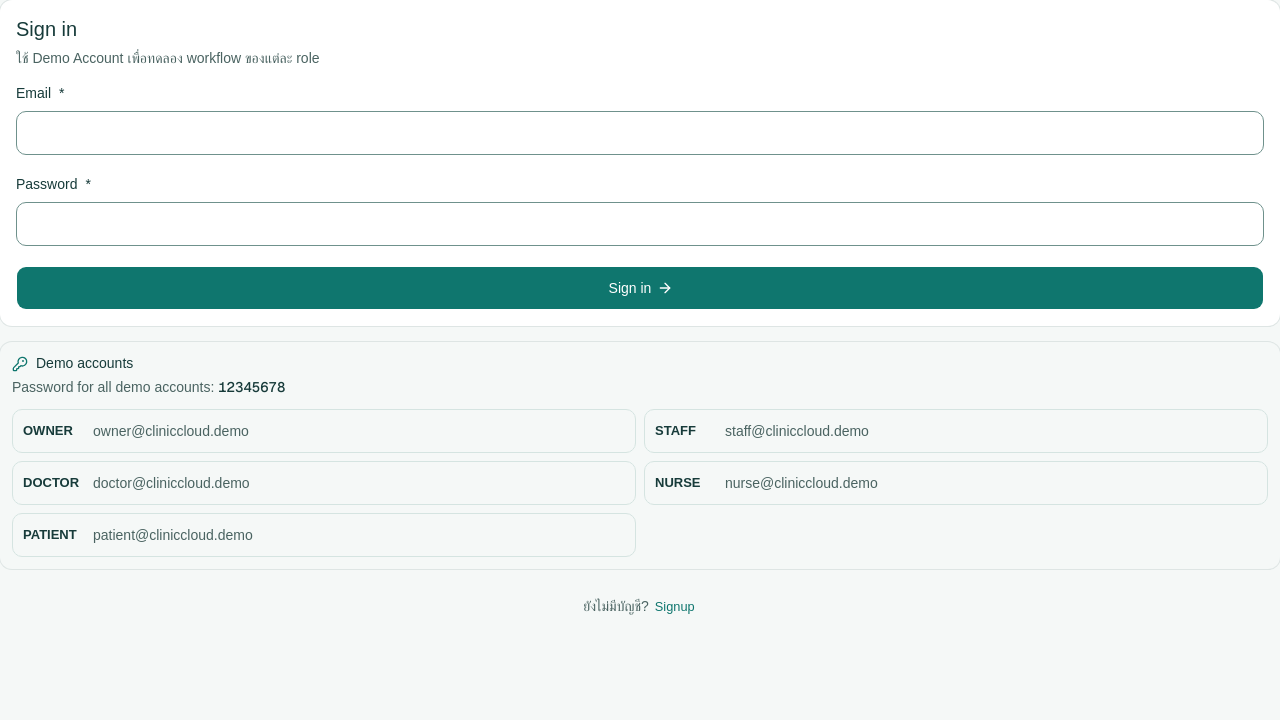
Scenario: public auth screens › prefills a selected demo account and the shared demo password
The image size is (1280, 720).
Click the button "OWNER owner@cliniccloud.demo".
click(48, 430)  # box [12,409,636,453]
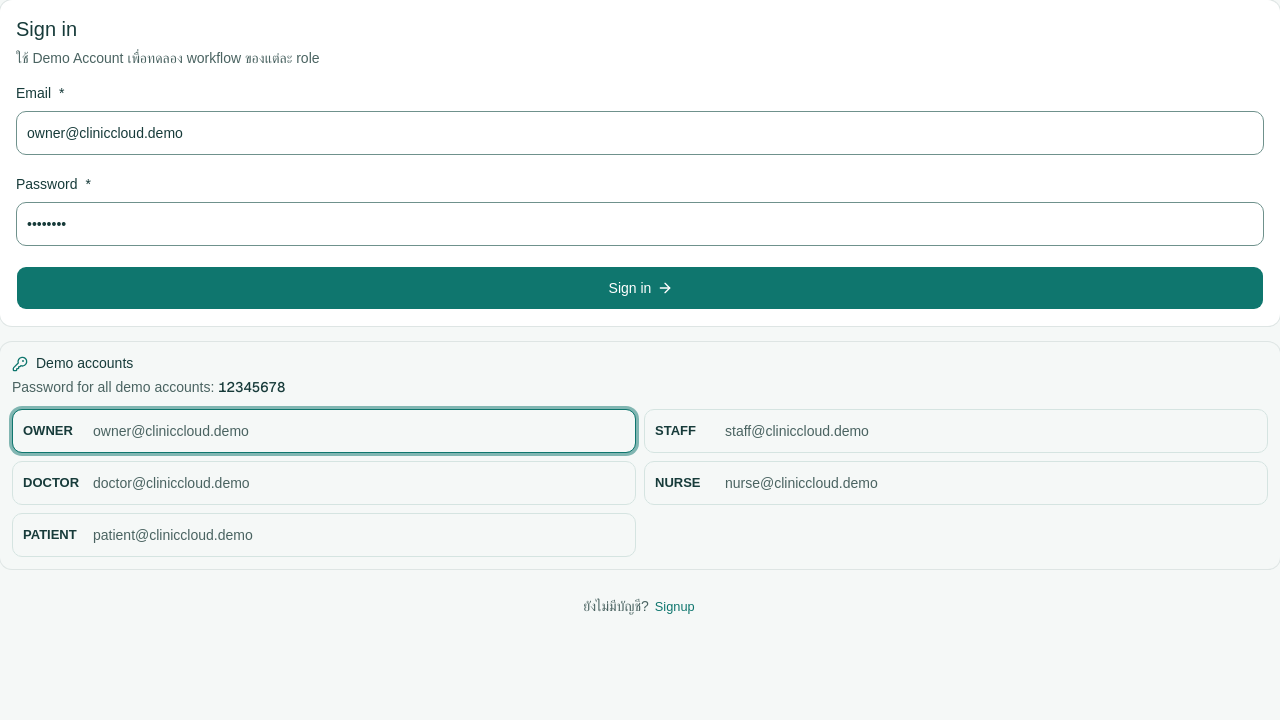
expect the field labelled "Email *" holds "owner@cliniccloud.demo": met, box [16,111,1264,155]
expect the password field labelled "Password *" holds "12345678": met, box [16,202,1264,246]
